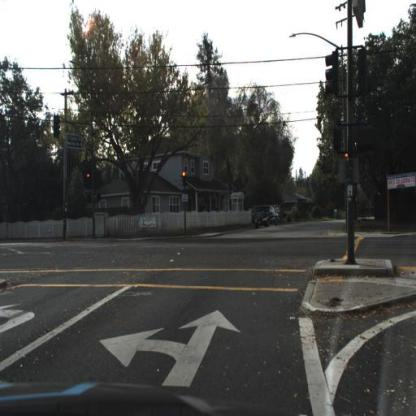car: (256, 209, 280, 230)
trafficLight: (182, 172, 187, 188)
trafficLight-Red: (88, 174, 92, 184)
